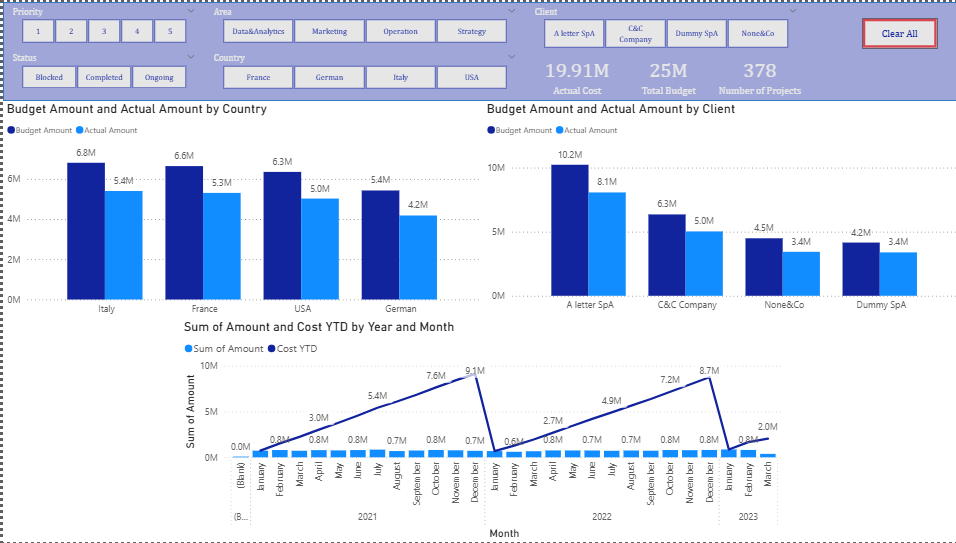

What the dashboard file says about the page in this screenshot:
{"tool":"powerbi","page":{"name":"Budget & Actual Costs","canvas":[1280,720],"ordinal":1},"visuals":[{"type":"shape","box":[0,0,1280,131.9],"z":0},{"type":"card","fields":{"Values":["My_Measures.Actual Amount"]},"box":[703.1,61.2,122.5,71.9],"z":1000},{"type":"clusteredColumnChart","fields":{"Category":["Master.Client"],"Y":["My_Measures.Budget Amount","My_Measures.Actual Amount"]},"box":[640.6,131.9,639.4,289.4],"z":2000},{"type":"clusteredColumnChart","fields":{"Y":["My_Measures.Budget Amount","My_Measures.Actual Amount"],"Category":["Master.Country"]},"box":[0,131.9,640,294.4],"z":3000},{"type":"lineStackedColumnComboChart","fields":{"Y2":["My_Measures.Cost YTD"],"Category":["Dates.Date.Variation.Date Hierarchy.Year","Dates.Date.Variation.Date Hierarchy.Month"],"Y":["Sum(Transactions.Amount)"]},"box":[235,421.2,809.4,298.8],"z":4000},{"type":"slicer","fields":{"Values":["Master.Priority"]},"box":[0,0,268.1,61.2],"z":5000},{"type":"slicer","fields":{"Values":["Master.Status"]},"box":[0,61.2,268.1,59.4],"z":6000},{"type":"slicer","fields":{"Values":["Master.Country"]},"box":[268.1,61.2,427.5,60],"z":7000},{"type":"slicer","fields":{"Values":["Master.Client"]},"box":[695.6,0,374.4,61.2],"z":8000},{"type":"slicer","fields":{"Values":["Master.Area"]},"box":[268.1,0,427.5,61.2],"z":9000},{"type":"card","fields":{"Values":["Count(Master.ID)"]},"box":[948.1,61.2,121.9,71.2],"z":10000},{"type":"card","fields":{"Values":["My_Measures.Budget Amount"]},"box":[825.6,61.2,122.5,71.9],"z":11000},{"type":"actionButton","box":[1146.2,21.2,100,40],"z":12000}]}

Visuals, with their boxes in screenshot pixels (x1, y1, x2, y2), scaled from the page's 1280x720 canvas onto the 956x543 screenshot:
shape: <box>0,0,955,99</box>
card - My_Measures.Actual Amount: <box>525,46,617,100</box>
clusteredColumnChart - Master.Client x My_Measures.Budget Amount: <box>478,99,955,318</box>
clusteredColumnChart - My_Measures.Budget Amount x My_Measures.Actual Amount: <box>0,99,478,322</box>
lineStackedColumnComboChart - My_Measures.Cost YTD x Dates.Date.Variation.Date Hierarchy.Year: <box>176,318,780,542</box>
slicer - Master.Priority: <box>0,0,200,46</box>
slicer - Master.Status: <box>0,46,200,91</box>
slicer - Master.Country: <box>200,46,520,91</box>
slicer - Master.Client: <box>520,0,799,46</box>
slicer - Master.Area: <box>200,0,520,46</box>
card - Count(Master.ID): <box>708,46,799,100</box>
card - My_Measures.Budget Amount: <box>617,46,708,100</box>
actionButton: <box>856,16,931,46</box>
